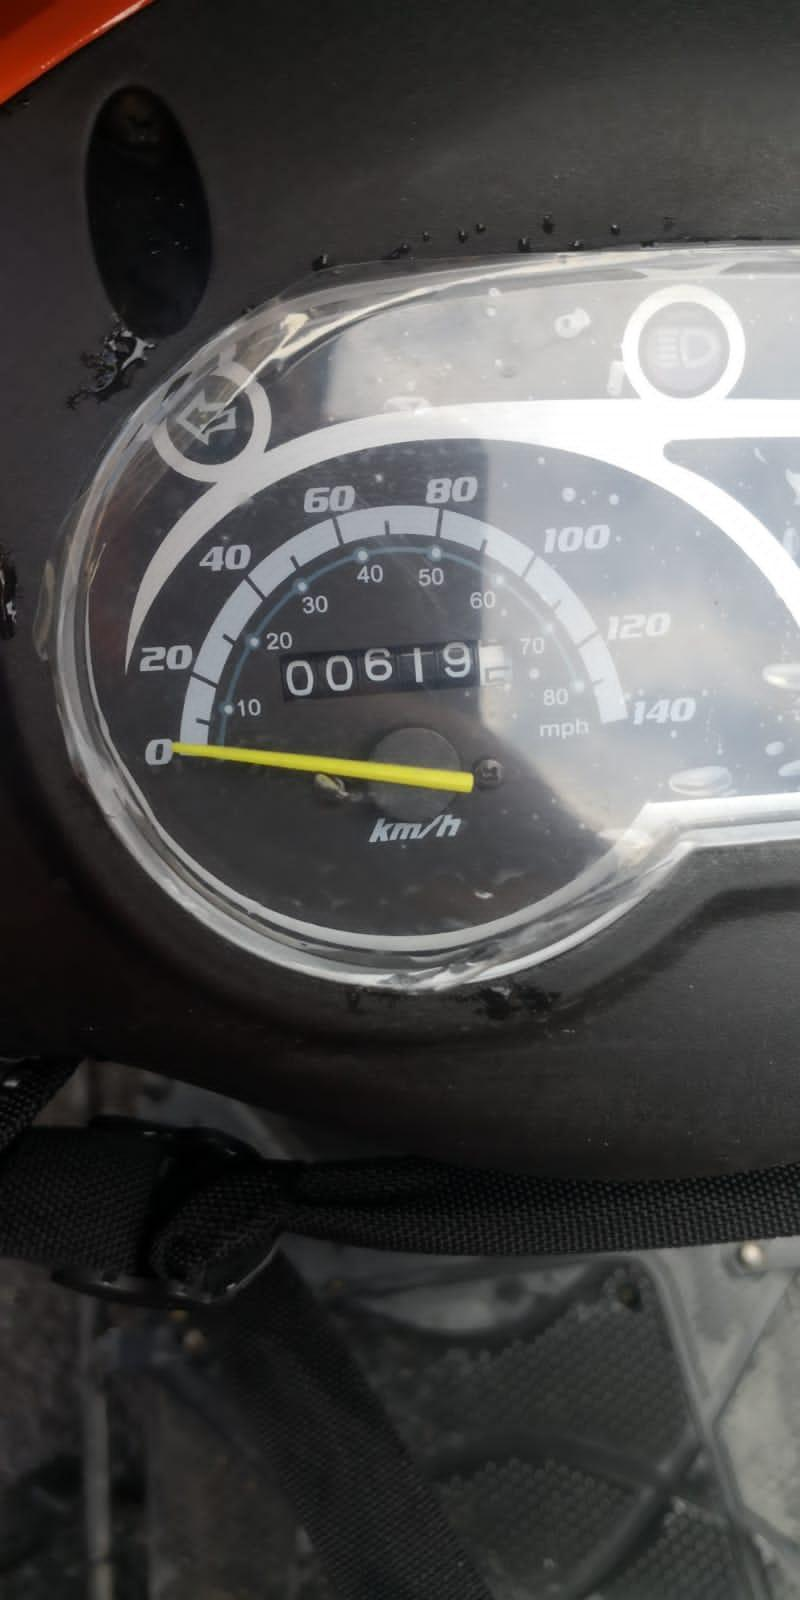0: (285, 659, 314, 696), (324, 654, 353, 691), (278, 631, 294, 650)
1: (412, 646, 424, 684)
5: (484, 664, 512, 698)
6: (364, 646, 394, 682)
9: (442, 641, 471, 678)
odometer: (274, 633, 519, 705)
